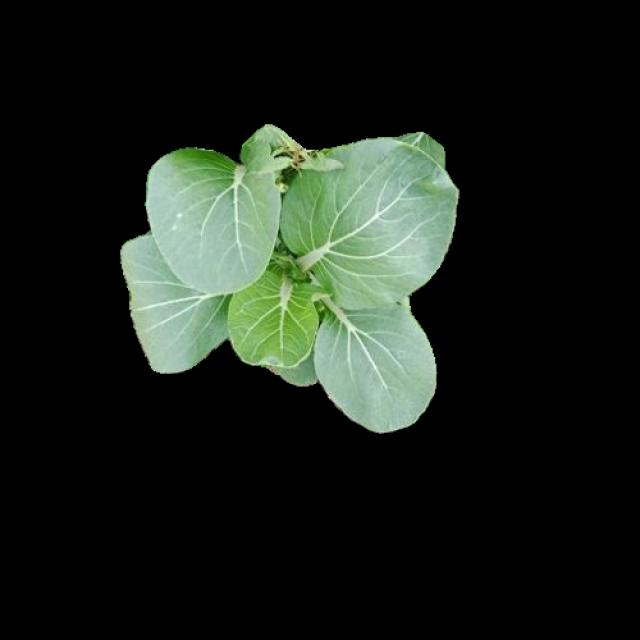not-mature: (122, 128, 456, 428)
unhealthy: (144, 131, 363, 289)
